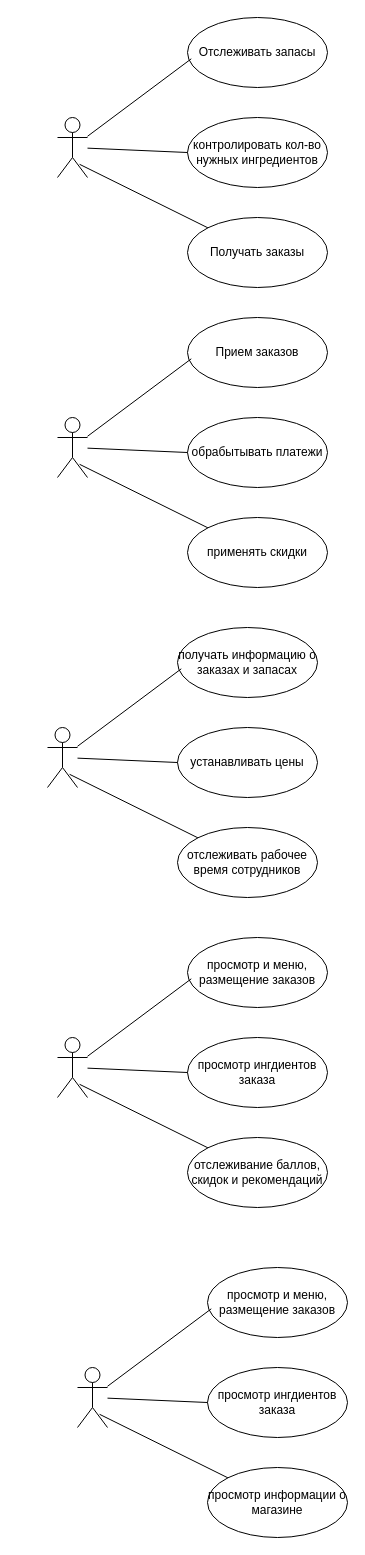
This 365x1555 diagram has some shape labels left out. Here are the shapes that lost their labels. From the top down, the centre of each, then its label:
the point at 72,147: Пекарь
the point at 72,447: Кассир
the point at 62,757: менеджер
the point at 72,1067: Постоянный клиент
the point at 92,1397: Новый клиент
